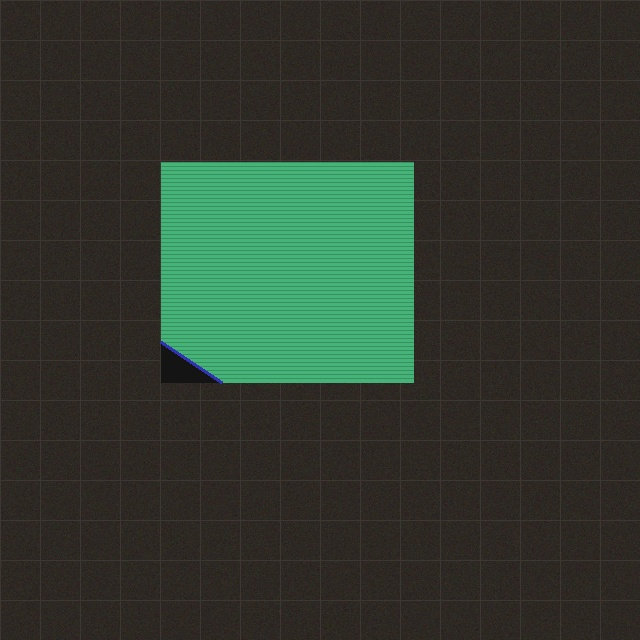warping: (151, 322, 241, 392)
